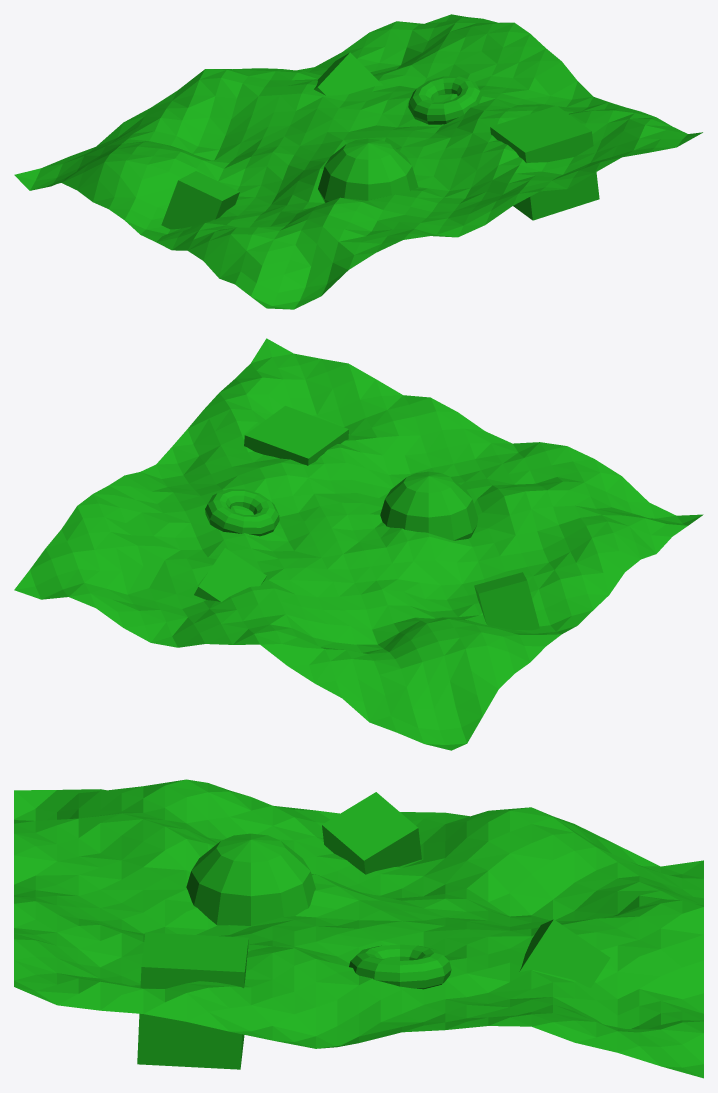
The model's file is Terrain.fbx.
3 renders of one model, top to bottom at view 1: azimuth 30°, elevation 25°; view 2: azimuth 150°, elevation 25°; view 3: azimuth 270°, elevation 25°, orthographic. The views are drawn at different scales.
Visible parts, largest first — view 1: Mesh1; view 2: Mesh1; view 3: Mesh1.
Boxes of the visible parts, box(x1,y1,x2,y2) form: Mesh1: box(14, 14, 702, 309); Mesh1: box(14, 338, 703, 750); Mesh1: box(14, 779, 703, 1078).
Size of the model in its own units: 20 by 5.48 by 20.
